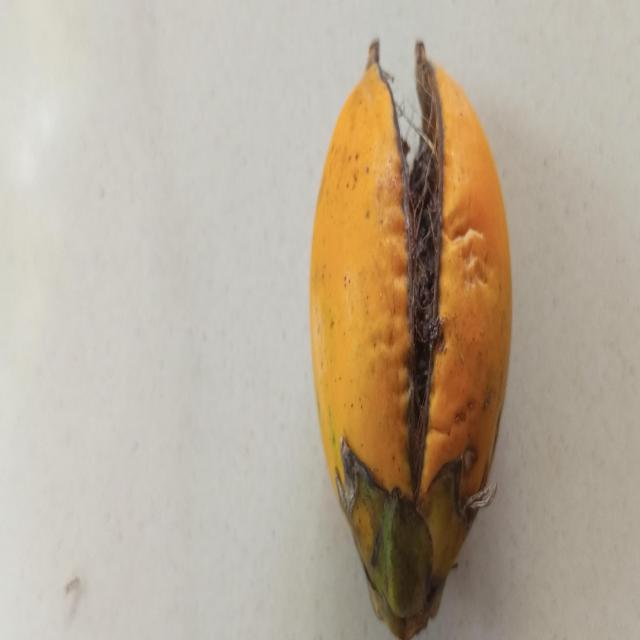damaged: (308, 40, 513, 640)
